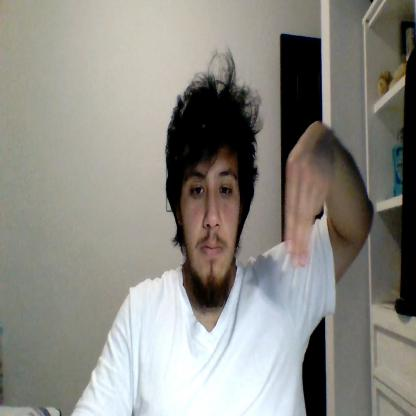M: (285, 131, 333, 268)
